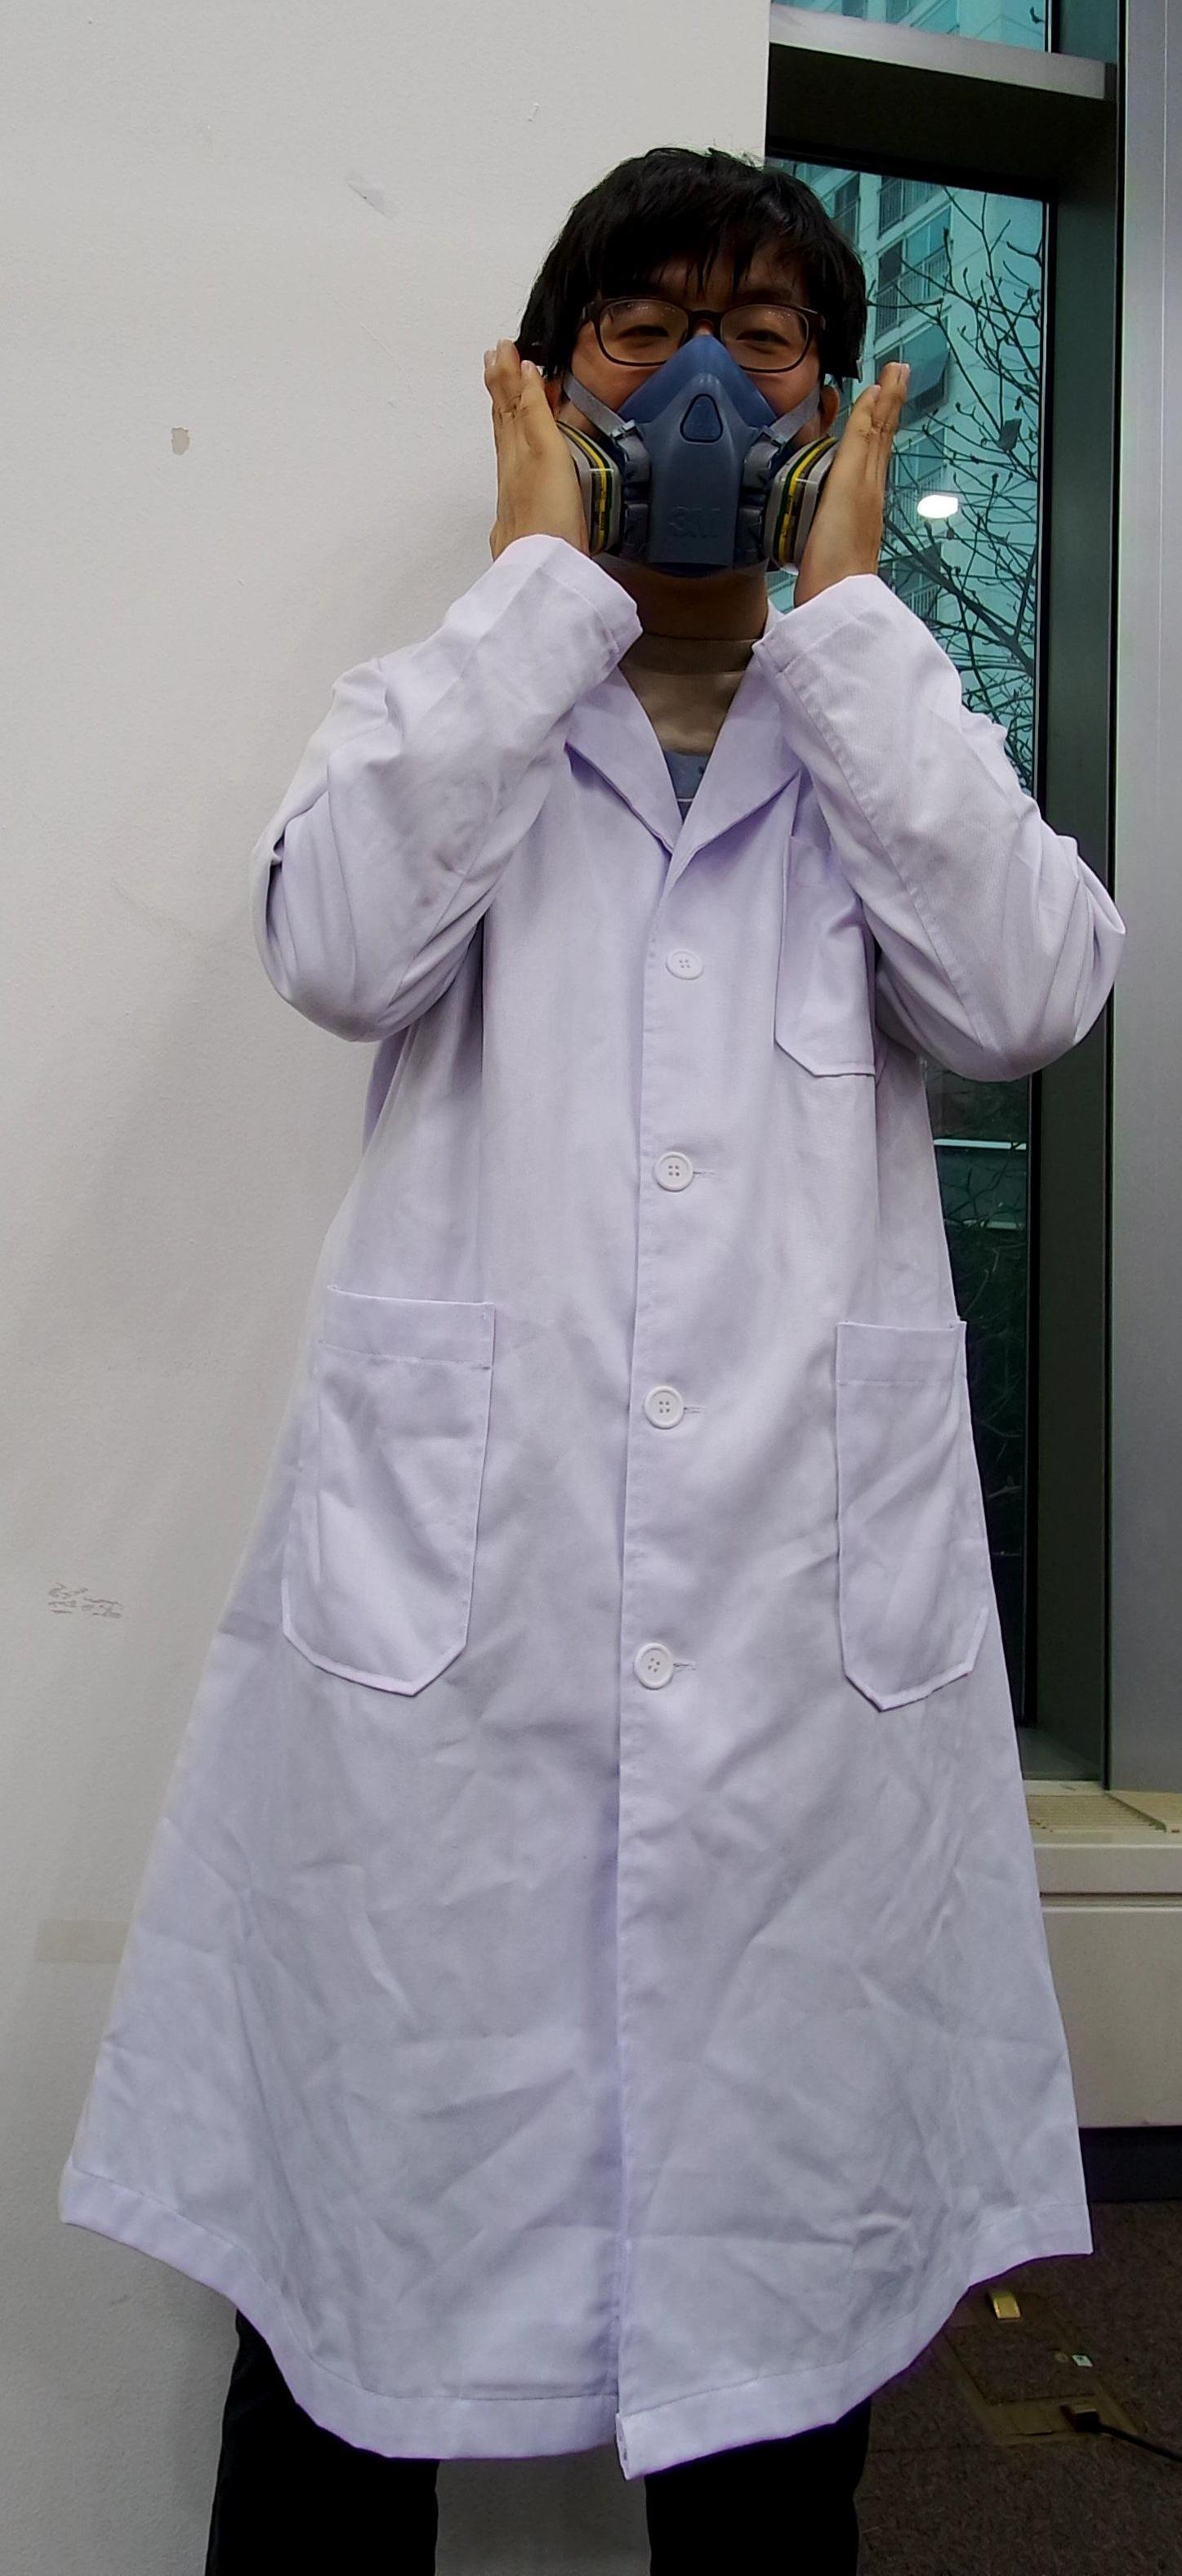lab_coat: (87, 585, 1120, 2428)
